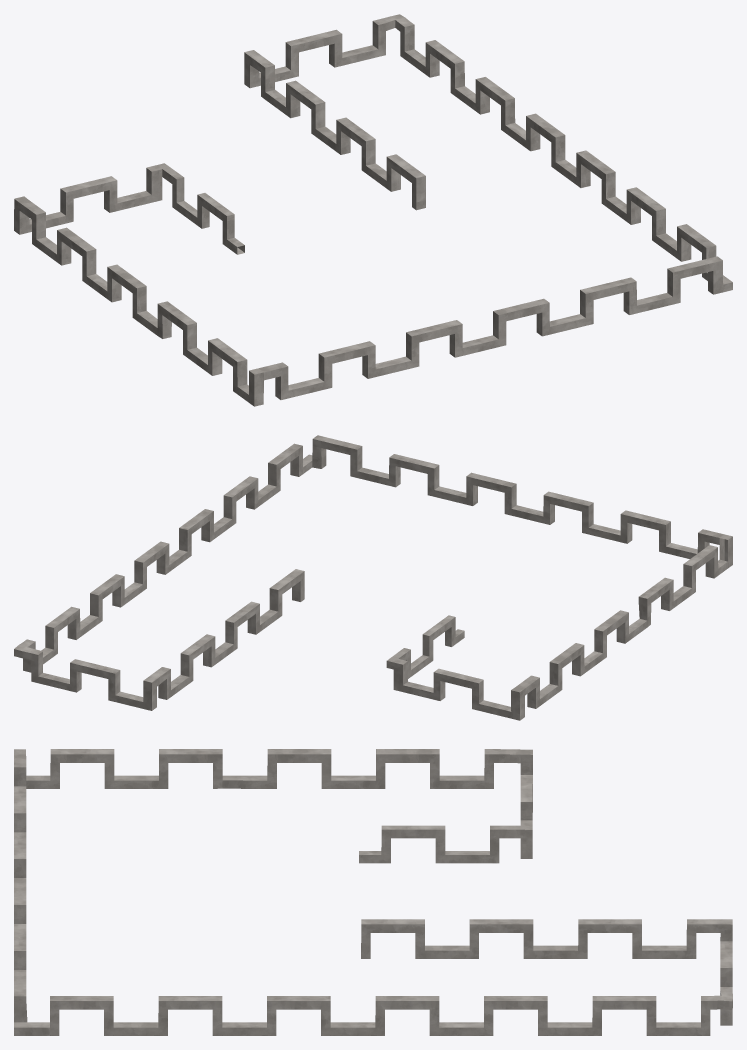
The model's file is relieve.fbx.
3 renders of one model, top to bottom at view 1: azimuth 30°, elevation 25°; view 2: azimuth 150°, elevation 25°; view 3: azimuth 270°, elevation 25°, orthographic. The views are drawn at different scales.
Parts seen in each view (by area): view 1: Cube.020; view 2: Cube.020; view 3: Cube.020.
Part boxes in pixels (x1,y1,x2,y2): Cube.020: (14,14,732,406); Cube.020: (14,435,732,720); Cube.020: (14,749,732,1035).
Size of the model in its own units: 7.49 by 0.4889 by 9.03.
